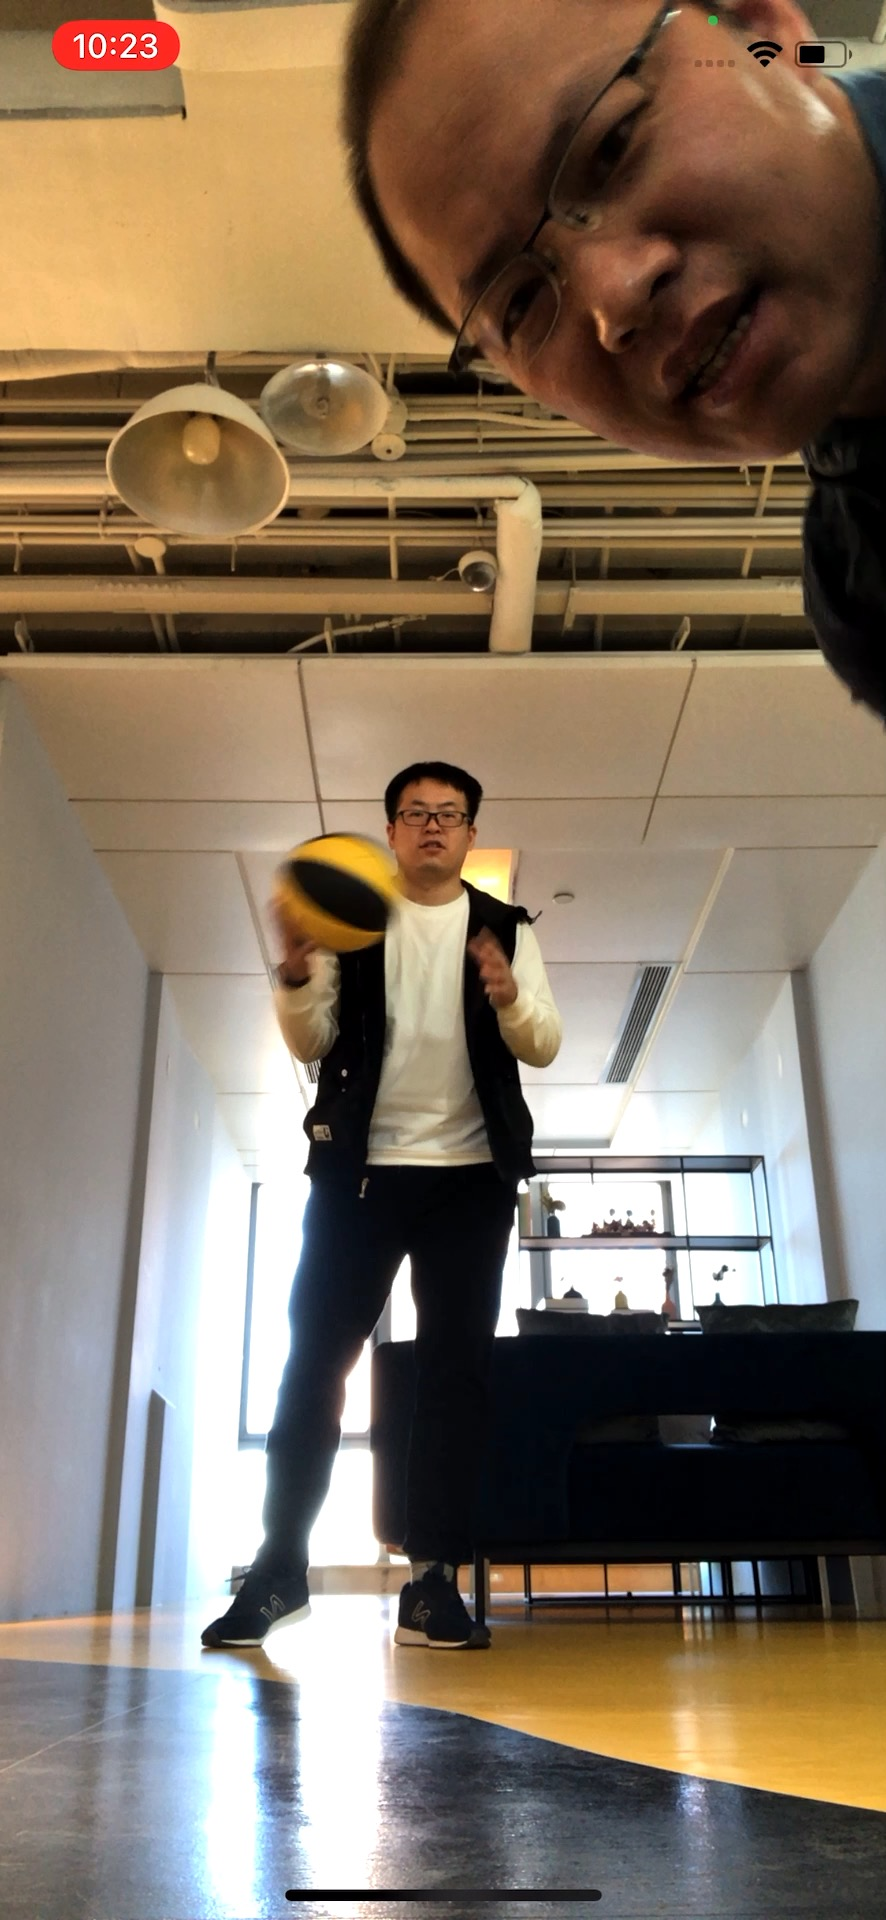ball: (277, 831, 400, 949)
